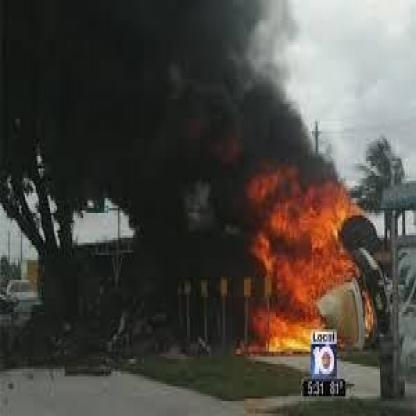fire: (245, 161, 378, 355)
smoke: (0, 0, 341, 201)
